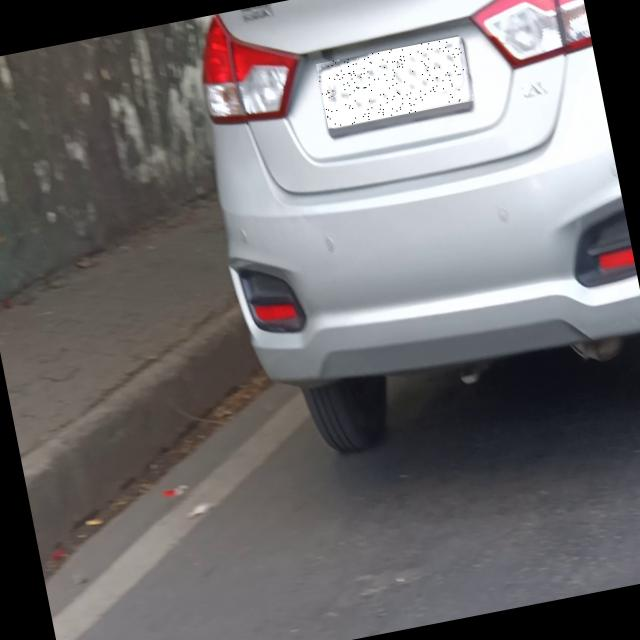Plate: (317, 37, 475, 130)
